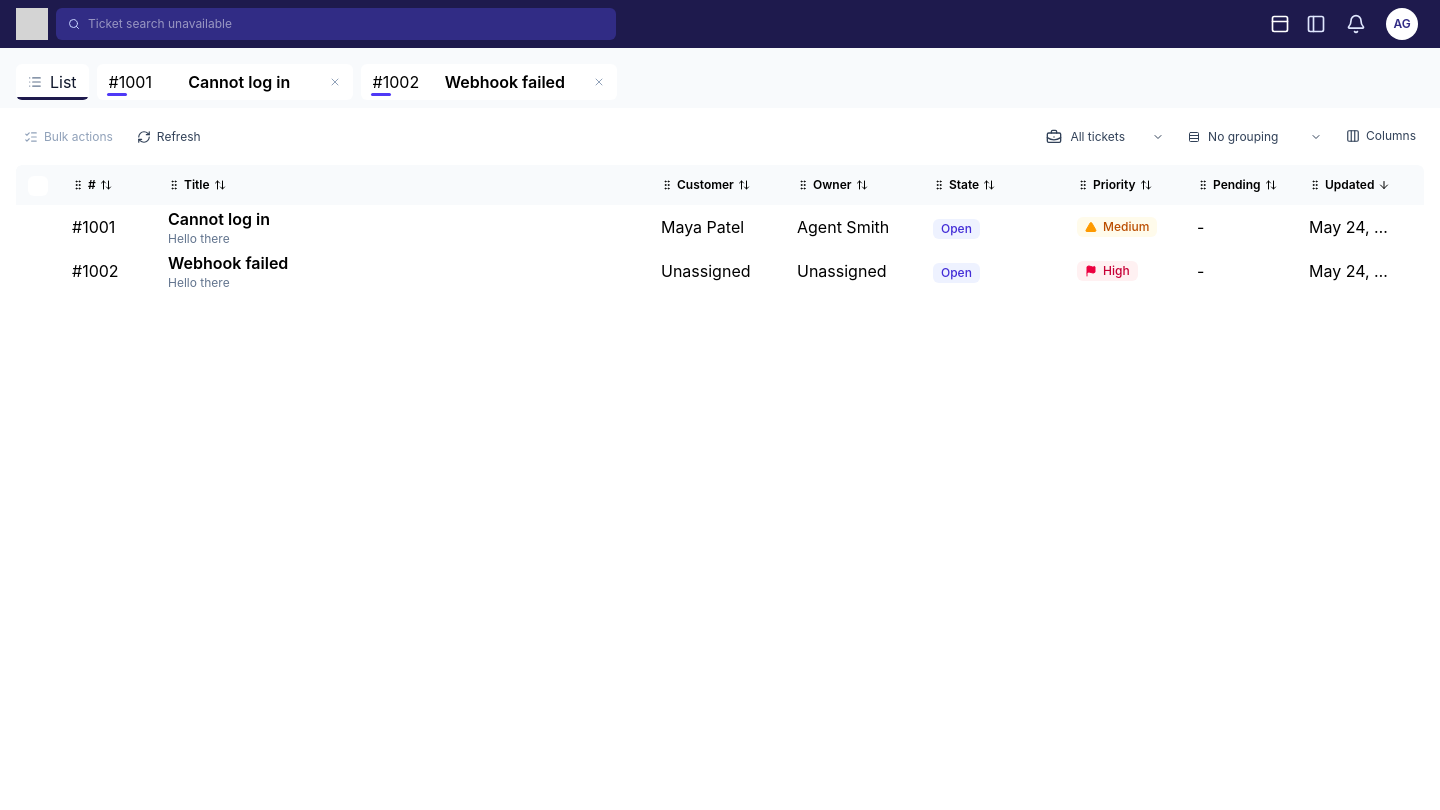
Test: TicketWorkspace horizontal tab pointer handling › keeps tab clicks working after small pointer jitter
Press the mouse on the tab "#1001 Cannot log in": (216, 82) [109,70,323,94]
Click the tab "#1001 Cannot log in": (216, 82) [109,70,323,94]
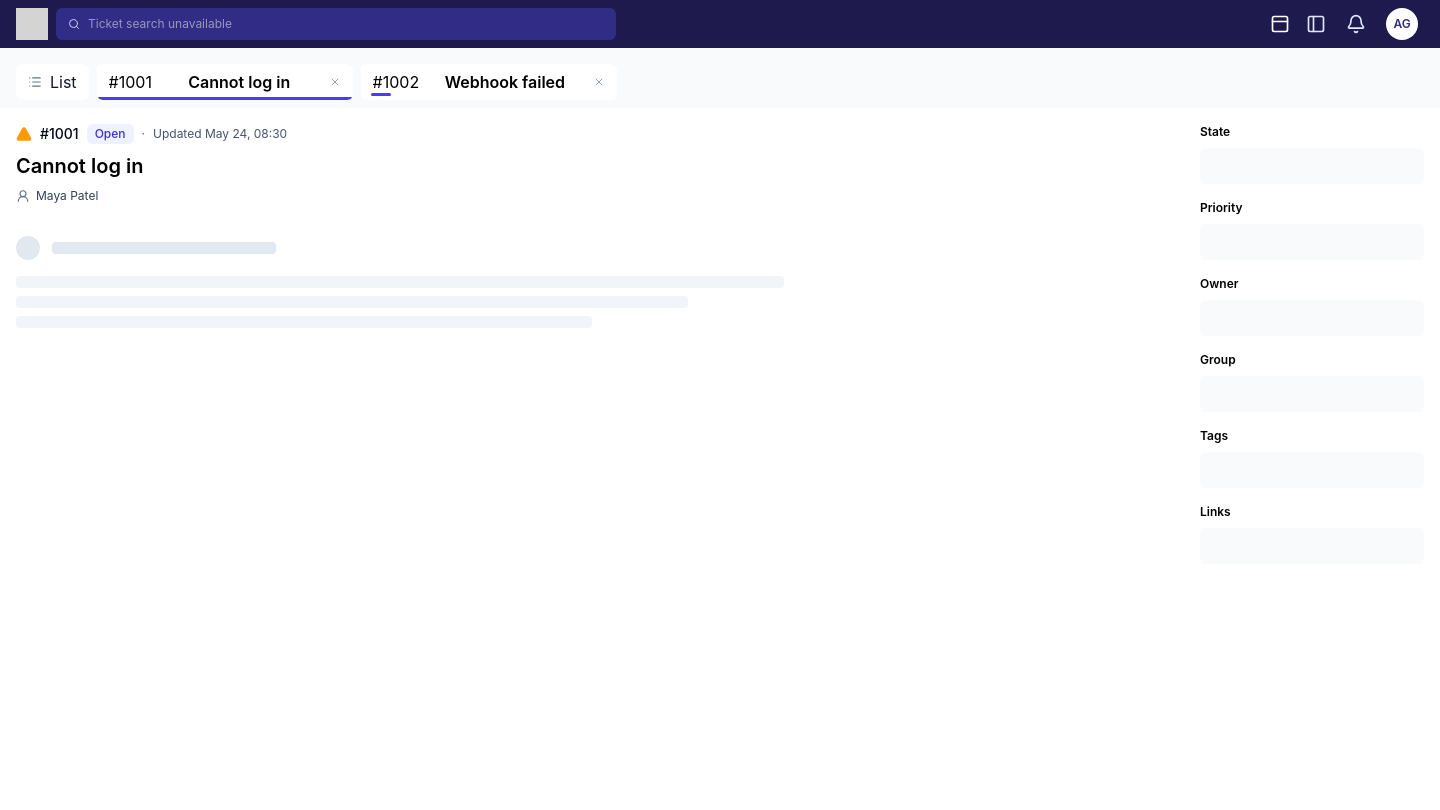
Expected: the element named "Ticket detail #1001" is shown
